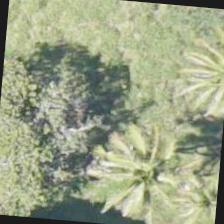Kelapa_Sawit: (86, 139, 185, 223)
